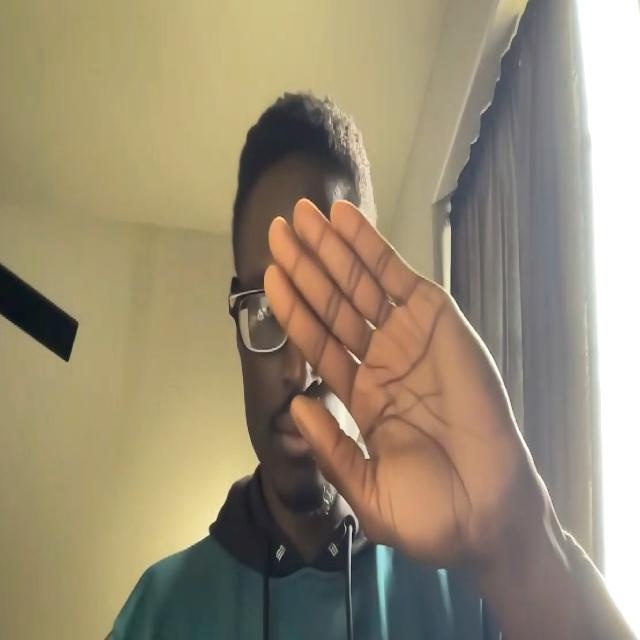Paper: (262, 196, 537, 564)
